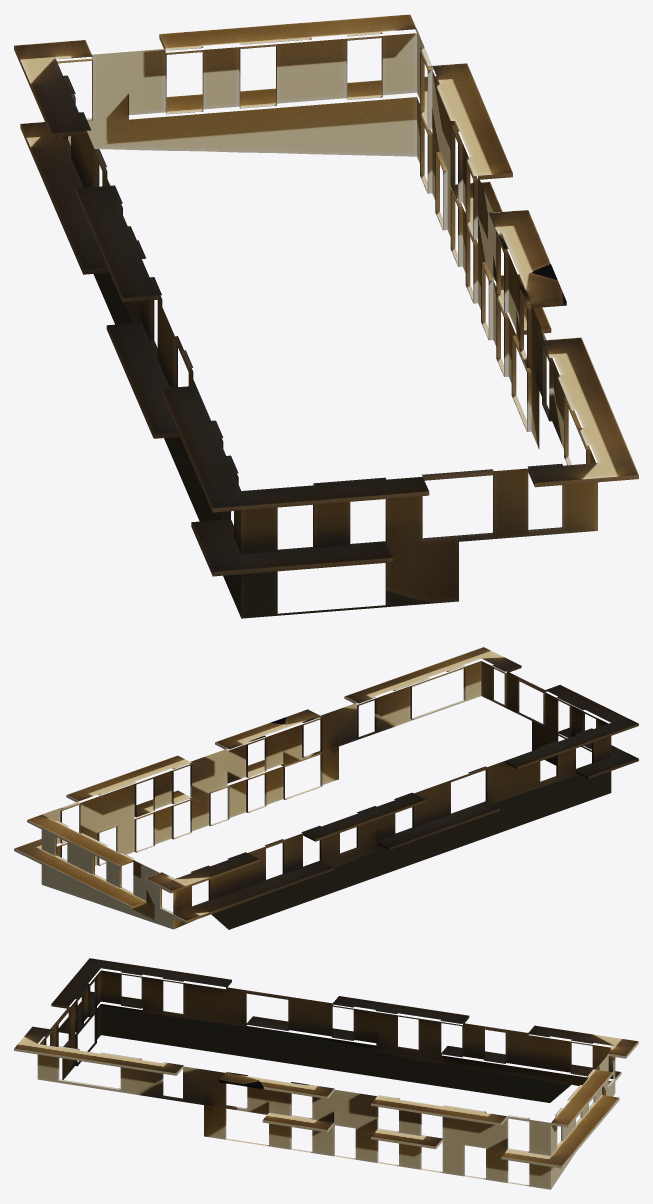
Rendered from Building_05.fbx.
3 renders of one model, top to bottom at view 1: azimuth 30°, elevation 25°; view 2: azimuth 150°, elevation 25°; view 3: azimuth 270°, elevation 25°, orthographic. The views are drawn at different scales.
Parts seen in each view (by area): view 1: Building_05; view 2: Building_05; view 3: Building_05.
Part boxes in pixels (x1=…): Building_05: x1=14, y1=14, x2=638, y2=618; Building_05: x1=14, y1=647, x2=638, y2=929; Building_05: x1=14, y1=958, x2=638, y2=1189.
Bounding box in the file's own units: 33.15 × 5.91 × 50.06.
Materials: 1 (1 with a texture image).
